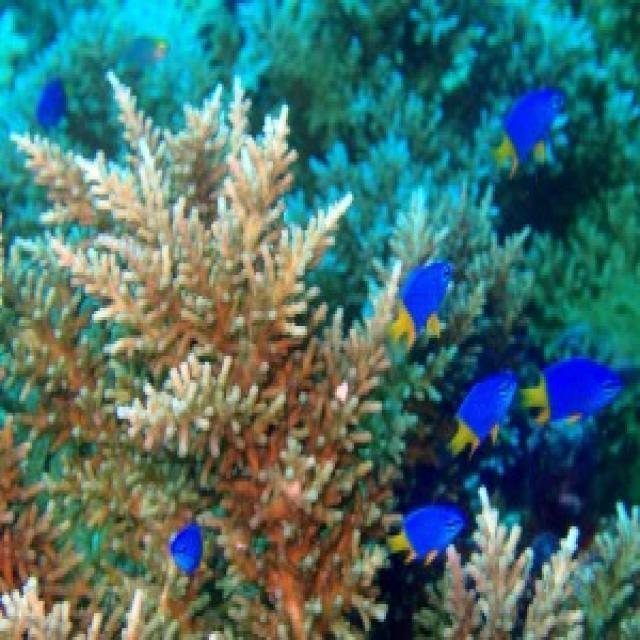Healthy Coral: (0, 56, 510, 640)
